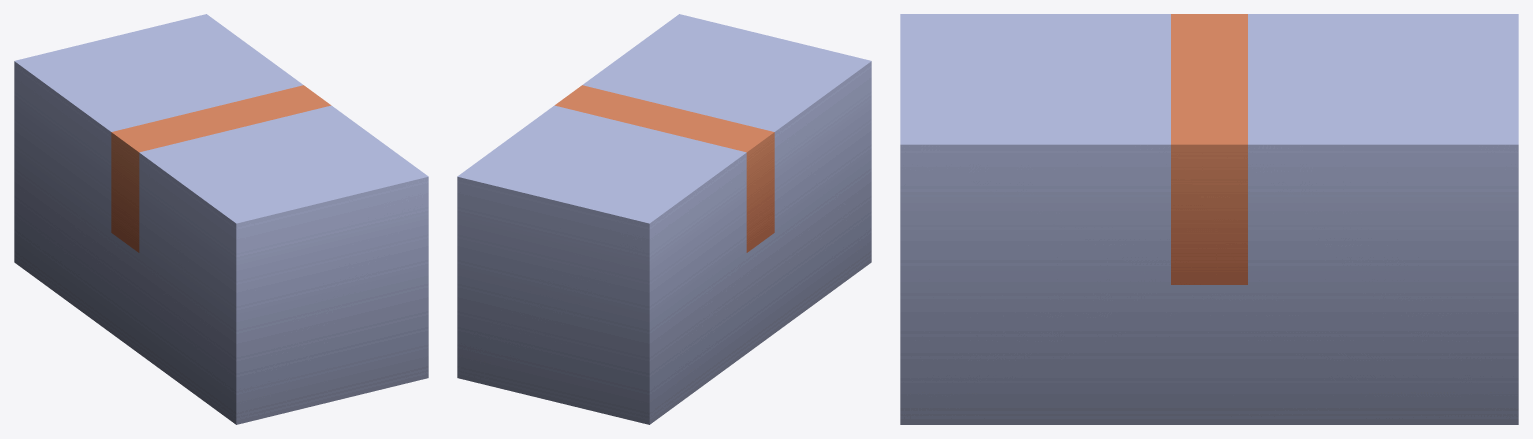
The model's file is box-wide.glb.
3 renders of one model, left to right at view 1: azimuth 30°, elevation 25°; view 2: azimuth 150°, elevation 25°; view 3: azimuth 270°, elevation 25°, orthographic. The views are drawn at different scales.
Parts seen in each view (by area): view 1: box-wide; view 2: box-wide; view 3: box-wide.
Boxes of the visible parts, left/top/right/bottom form: box-wide: left=14, top=14, right=428, bottom=424; box-wide: left=457, top=14, right=871, bottom=424; box-wide: left=900, top=14, right=1518, bottom=424.
Size of the model in its own units: 0.5 by 0.5 by 1.
Materials: 1 (1 with a texture image).
